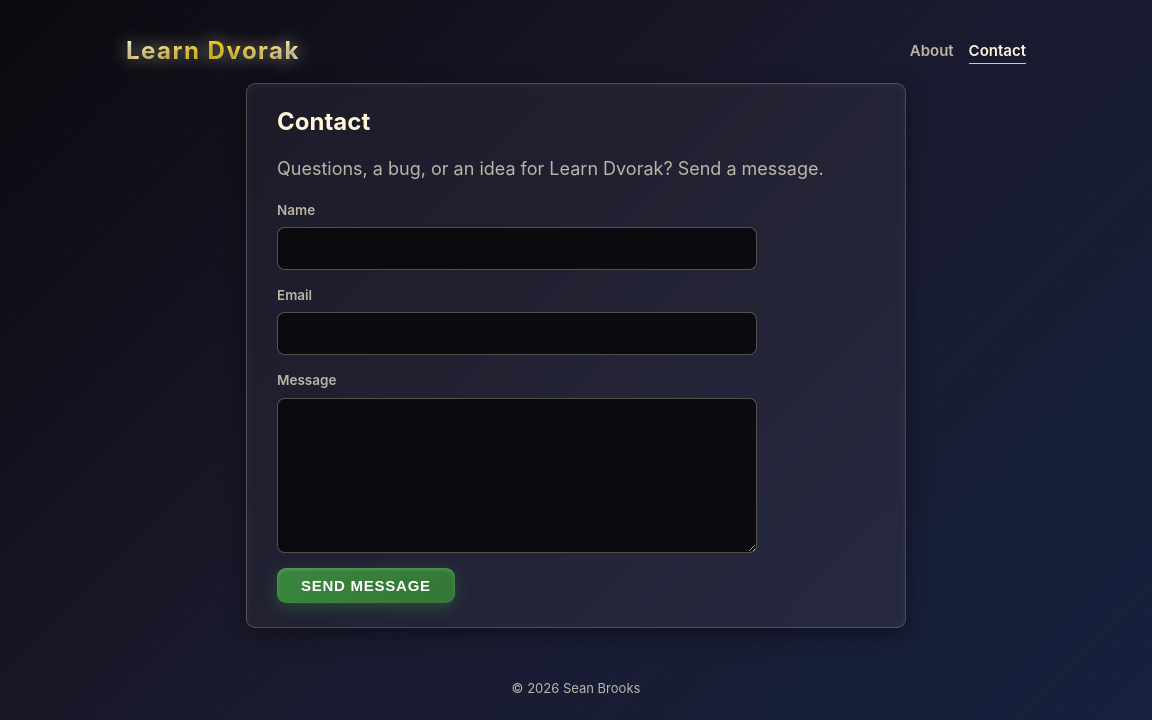
Test: the Contact form › shows the server's sentence when it rejects the message, keeping what was typed
Step 1. Type "Ada" into the field labelled "Name" → (517, 249), box [277,227,757,270]
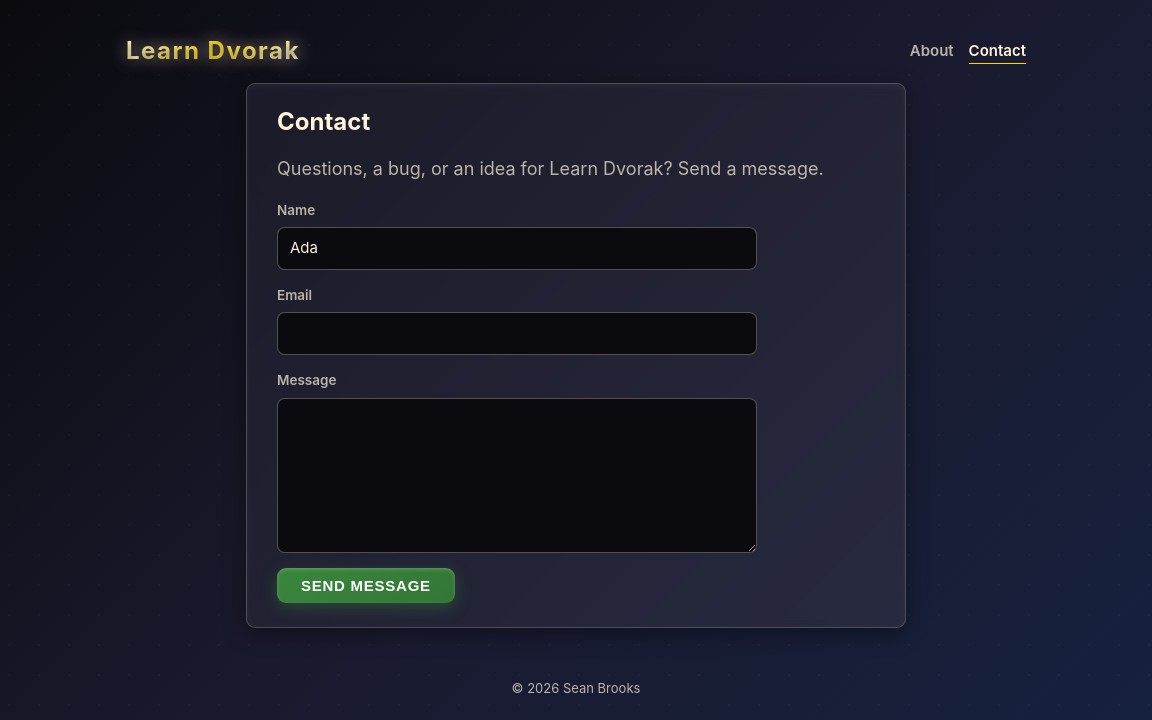
Step 2. Type "ada@example.com" into the field labelled "Email" → (517, 334), box [277,312,757,355]
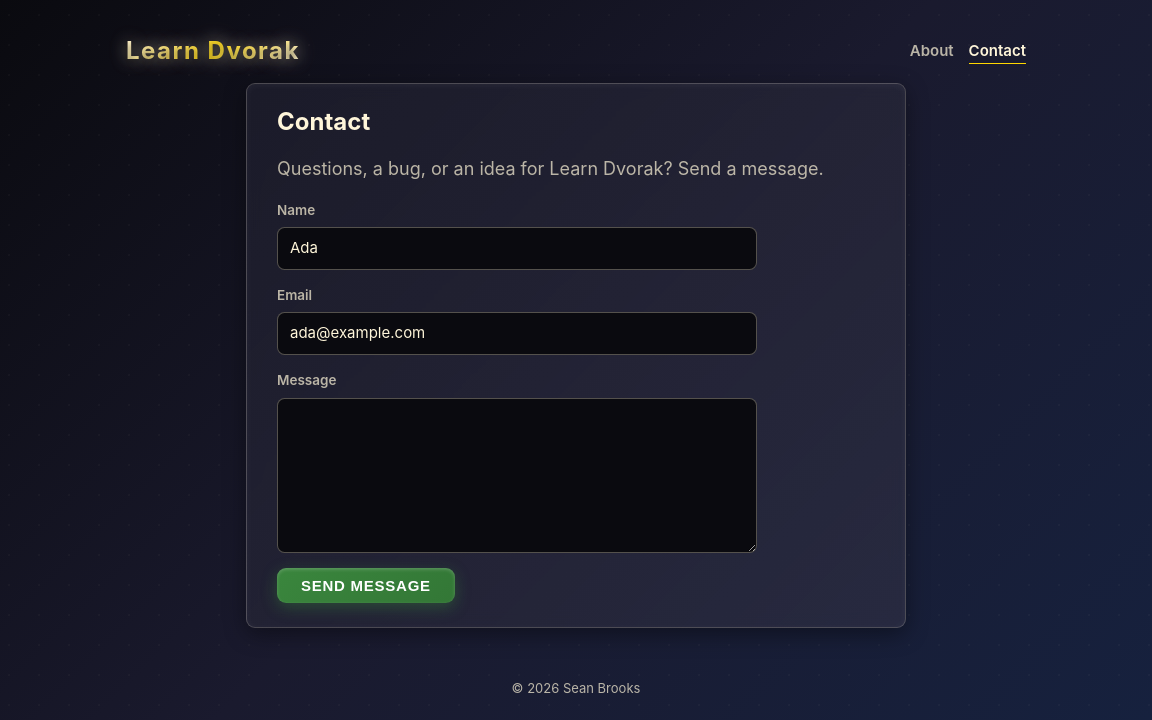
Step 3. Type "Hello" into the text box labelled "Message" → (517, 475), box [277,398,757,553]
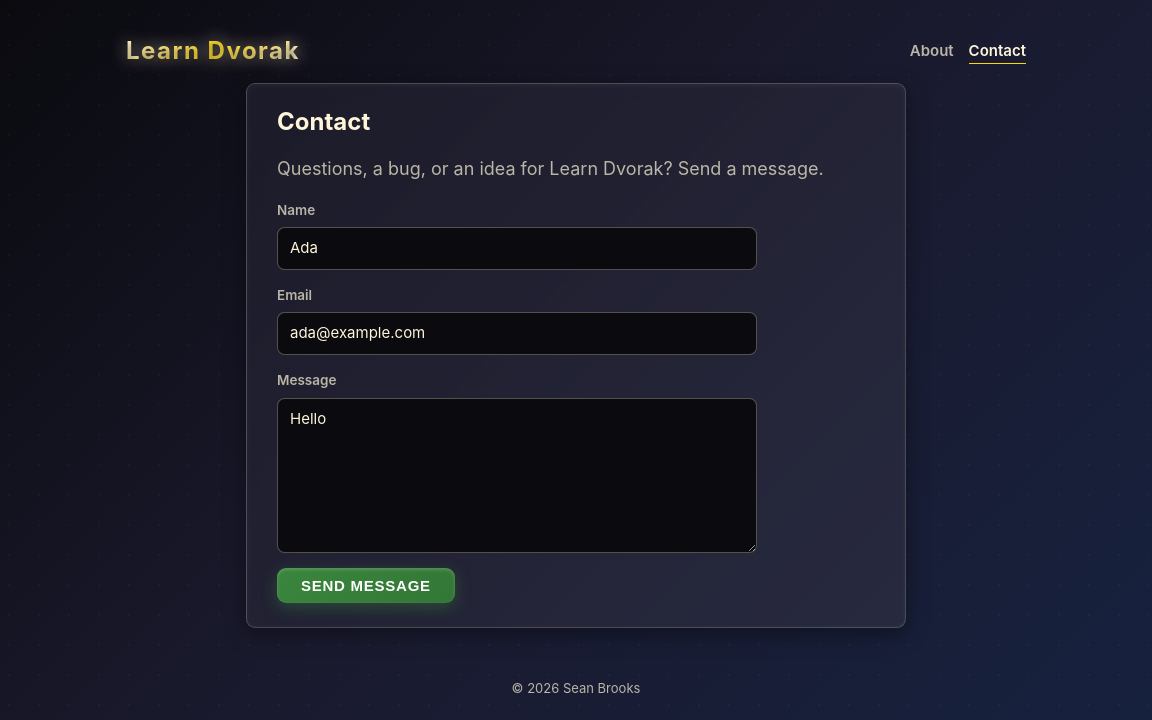
Step 4. Submit the form from the button "Send message", box [277,568,455,603]
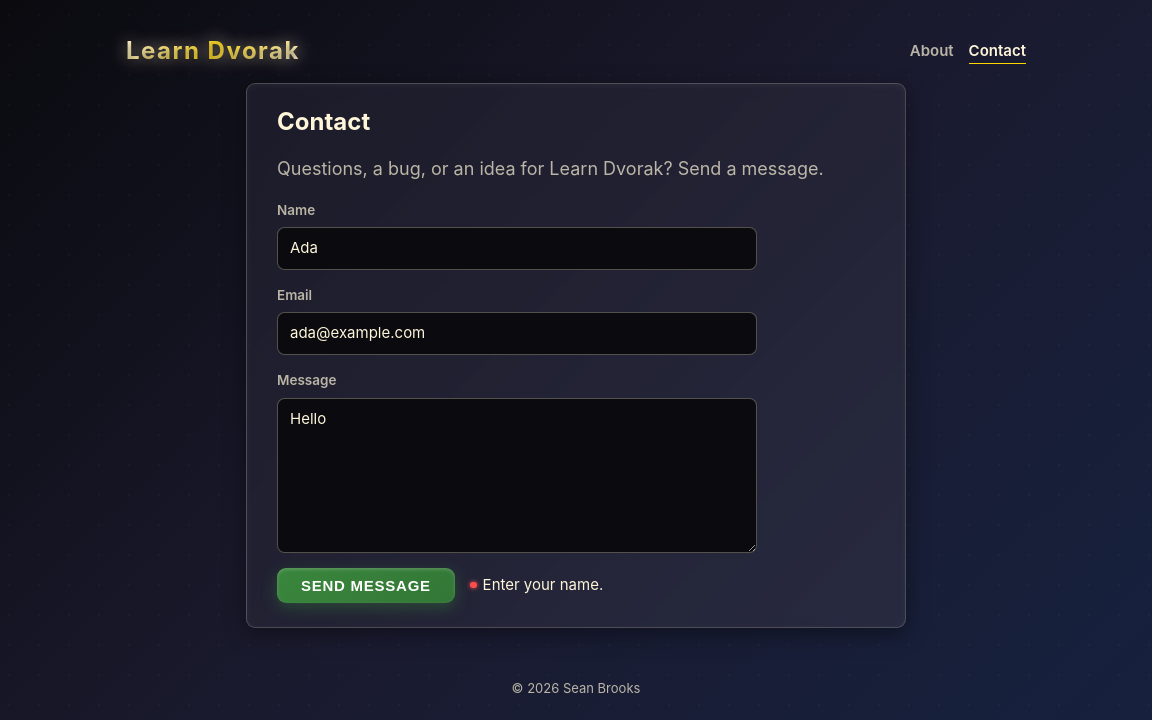
Expected: the message reads "Enter your name.", [483,575,603,594]
